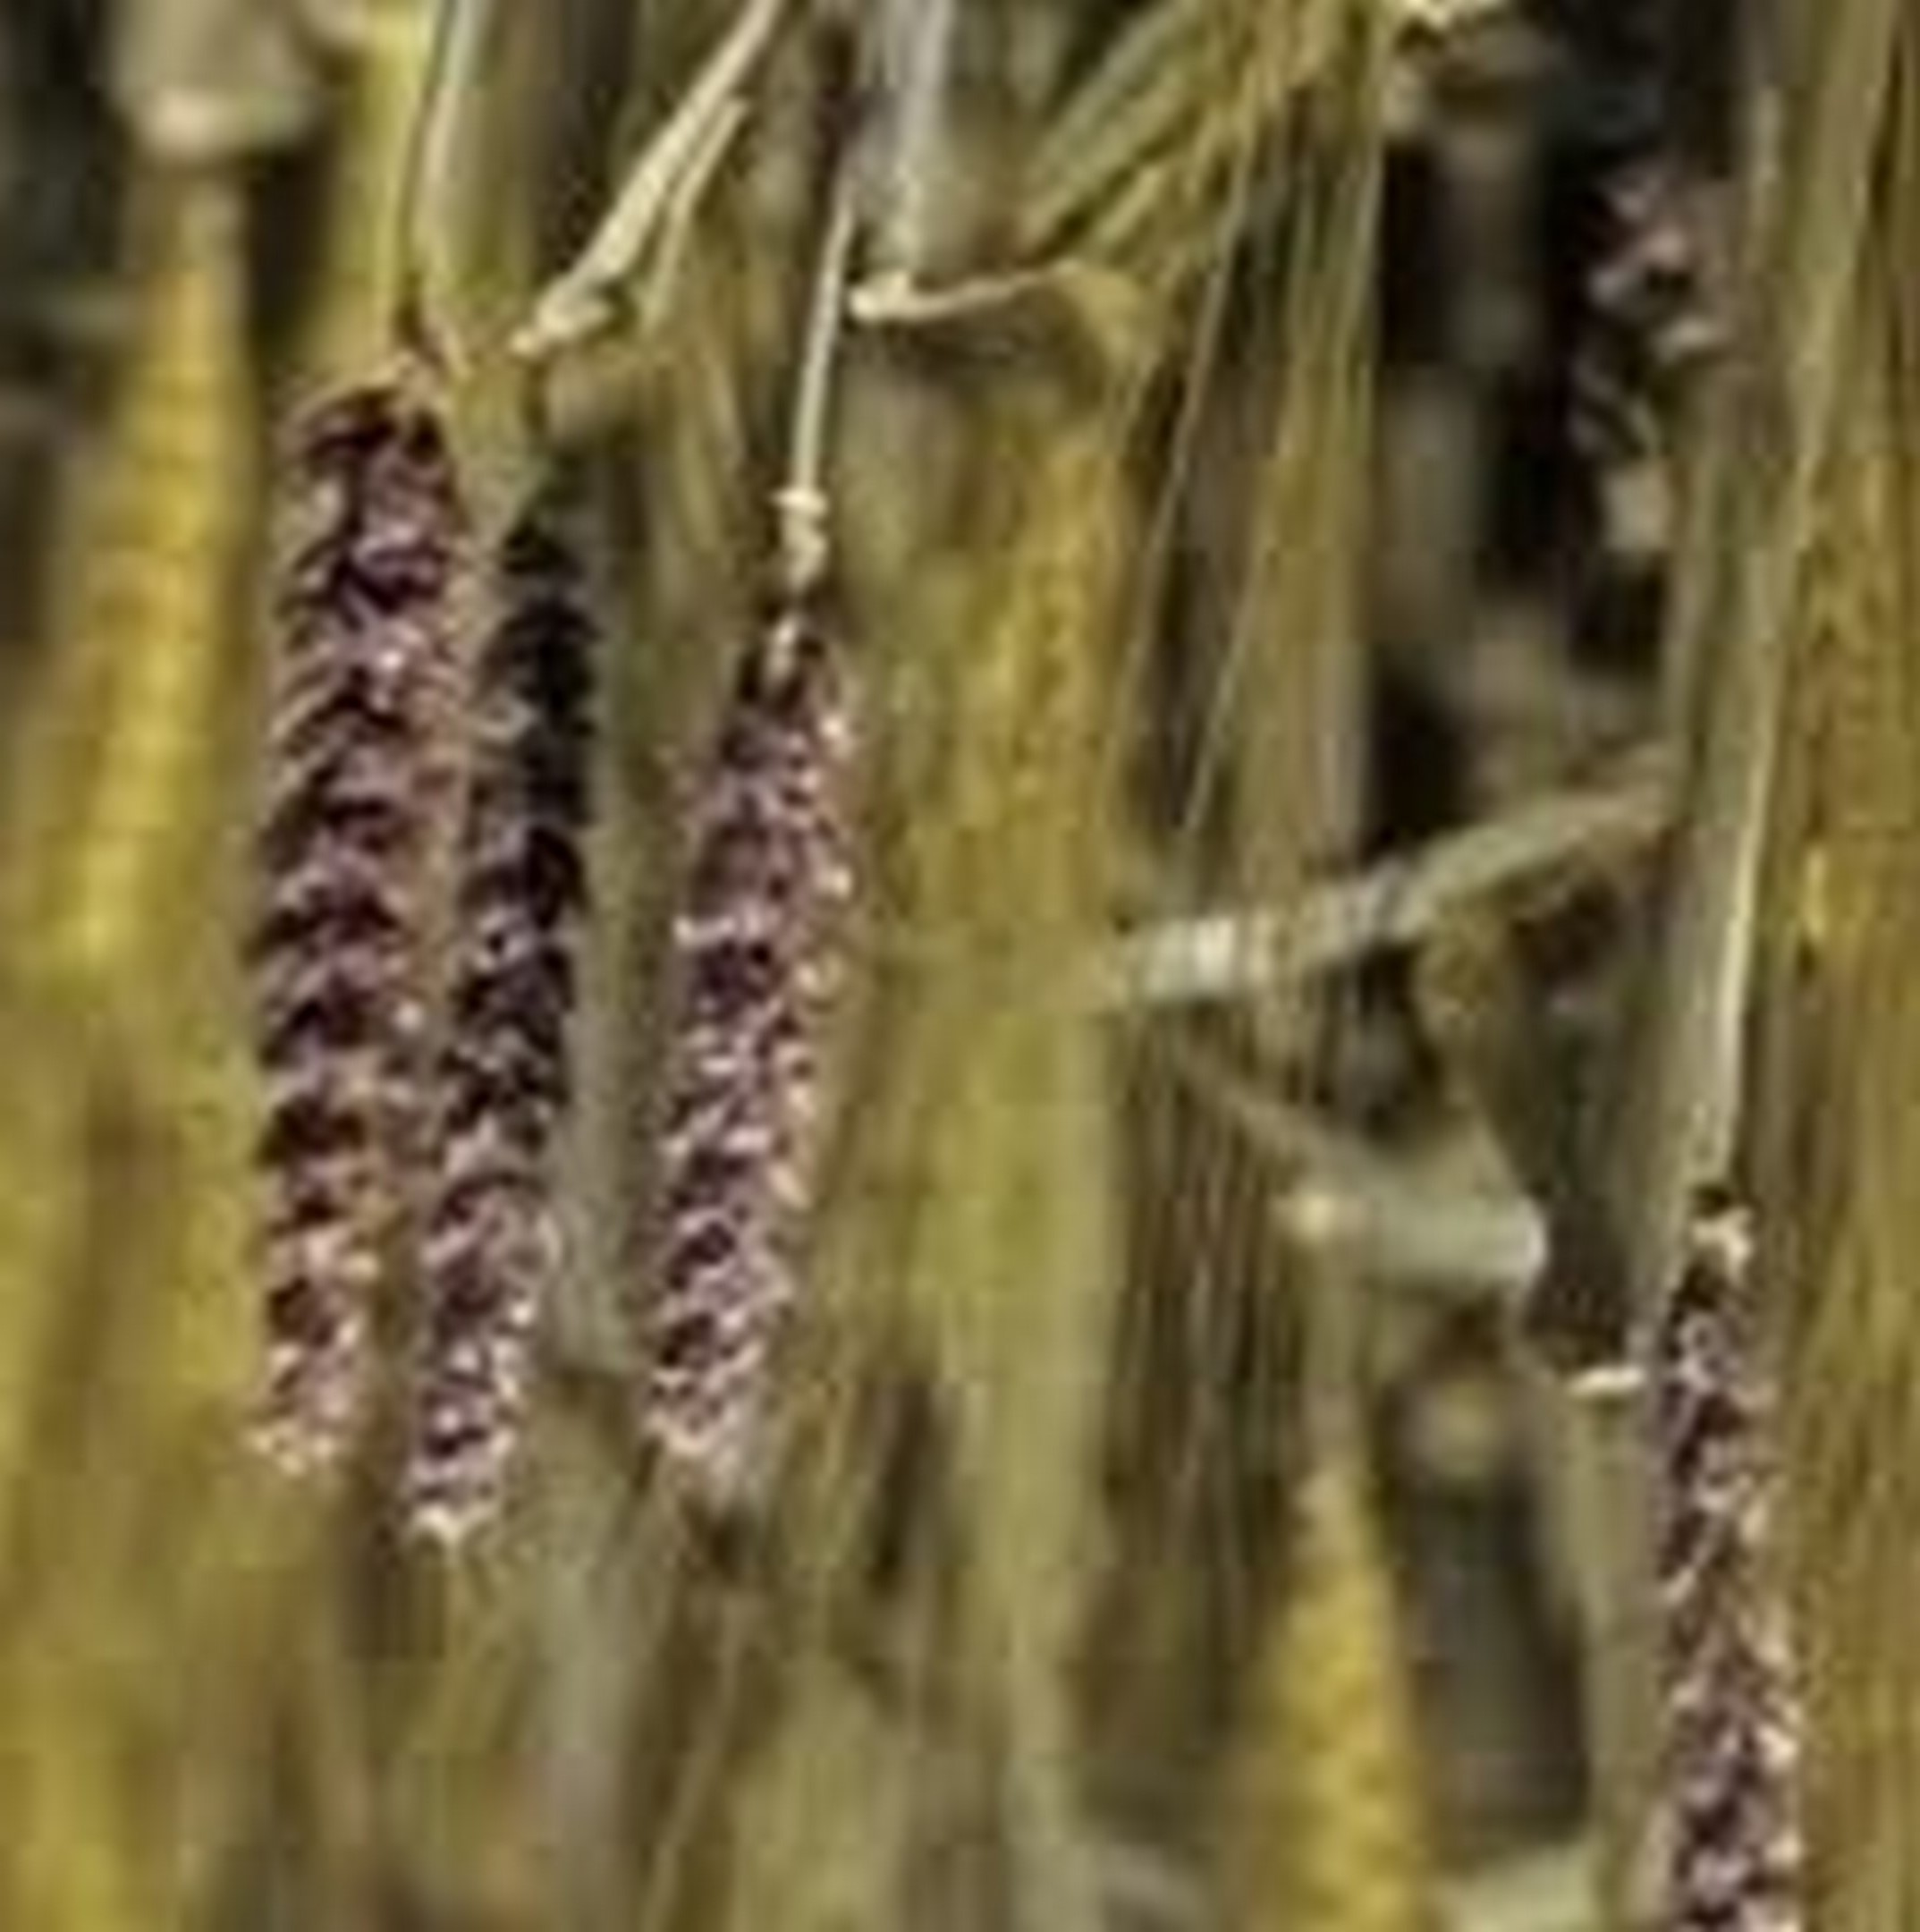Wheat Loose Smut: (195, 410, 860, 1589)
